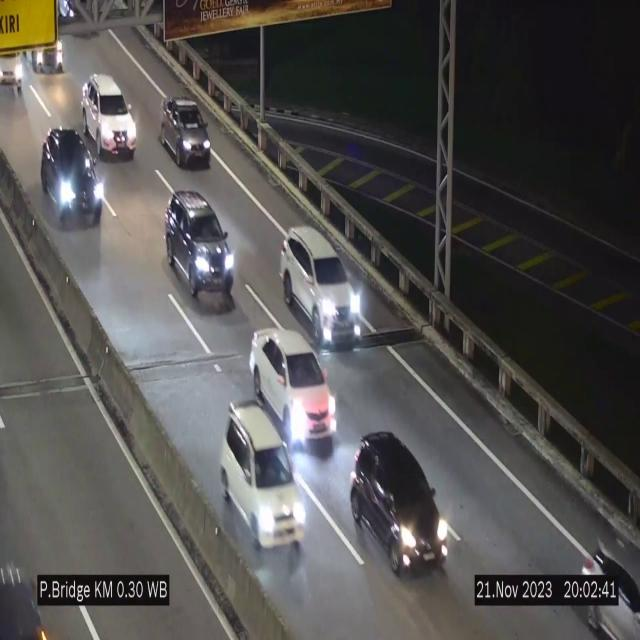Car: (347, 416, 454, 576), (221, 405, 303, 553), (249, 328, 338, 448), (280, 228, 360, 346), (581, 499, 640, 640), (166, 190, 234, 302), (38, 121, 108, 222), (82, 75, 137, 158), (161, 98, 211, 168), (0, 42, 26, 91)
